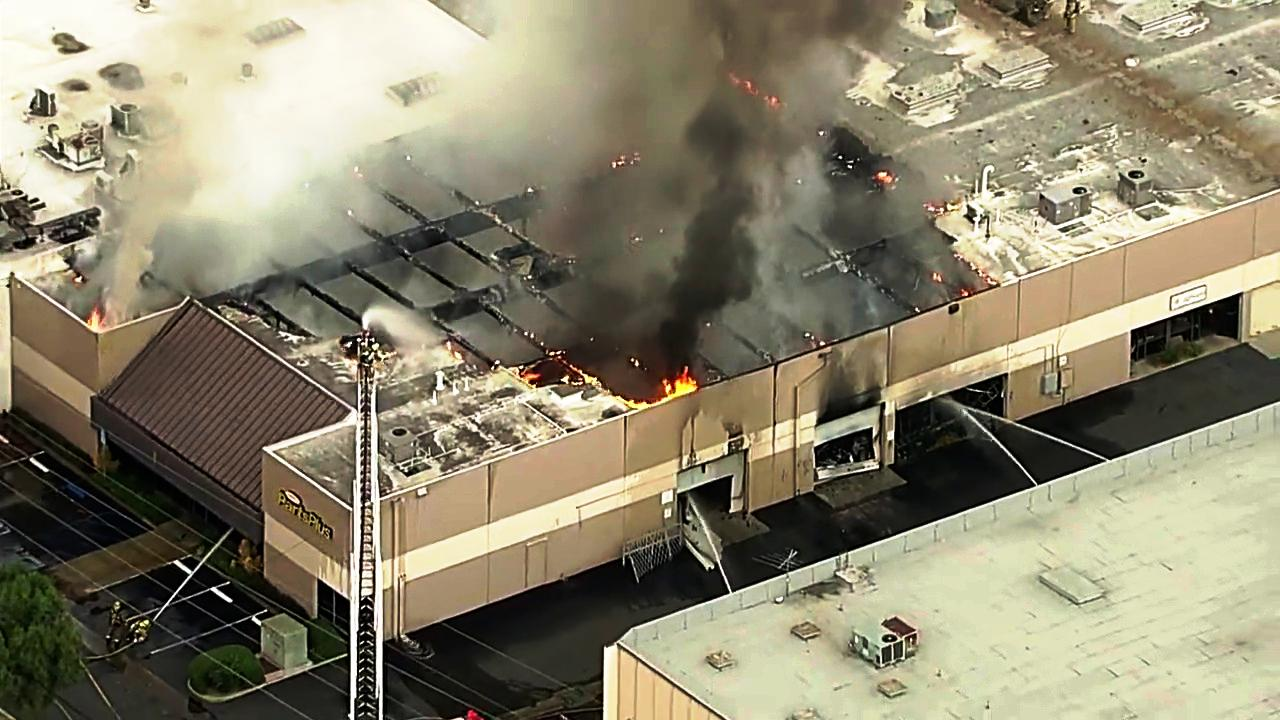smoke: (635, 6, 806, 369)
